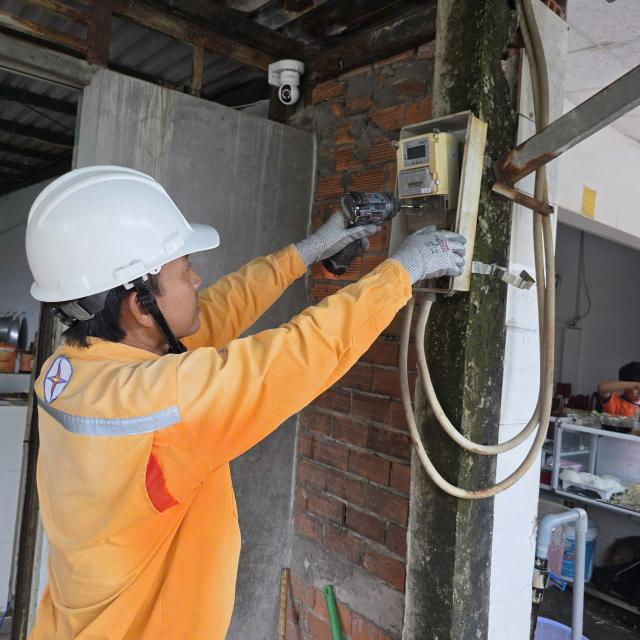gloves: (372, 212, 483, 286), (286, 184, 377, 265)
helmet: (8, 149, 228, 308)
